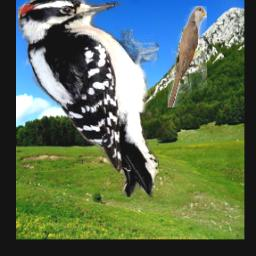Cuckoo: (168, 6, 207, 107)
Woodpecker: (18, 0, 159, 198)
